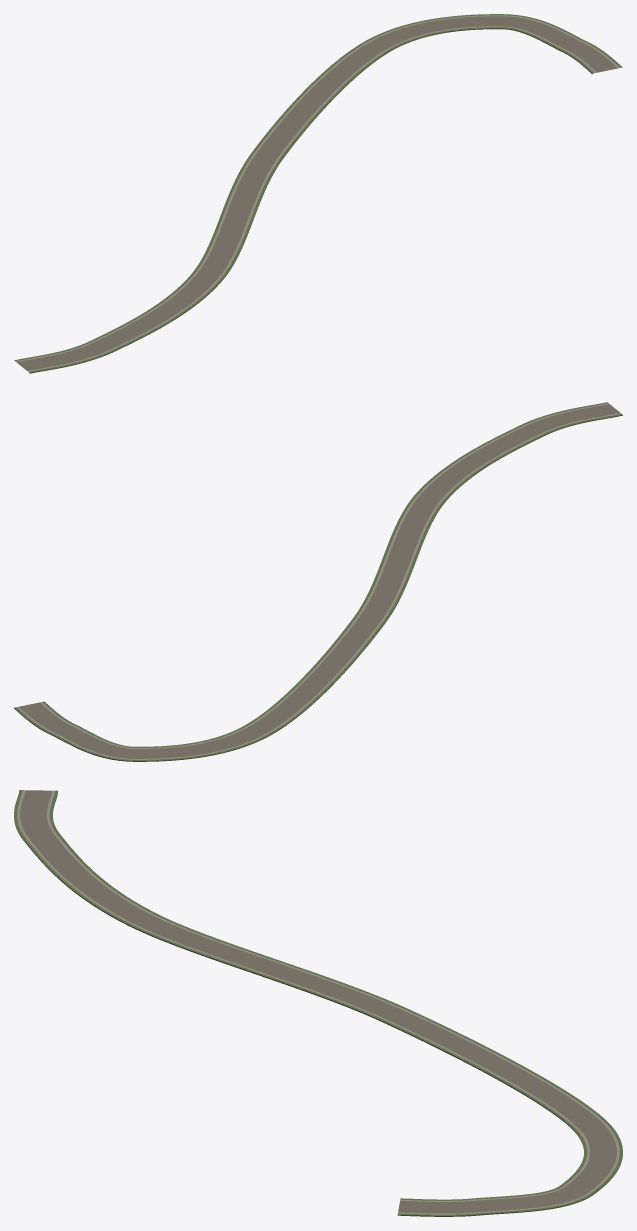
File: road_roam_link_east.glb
The picture shows the model from 3 angles, top to bottom: view 1: azimuth 30°, elevation 25°; view 2: azimuth 210°, elevation 25°; view 3: azimuth 270°, elevation 25°; orthographic projection. The views are drawn at different scales.
Parts seen in each view (by area): view 1: road; view 2: road; view 3: road.
Part boxes in pixels (<box>): road: <box>14,14,622,373</box>; road: <box>14,402,622,761</box>; road: <box>14,790,622,1216</box>.
Size of the model in its own units: 311 by 0.32 by 188.
